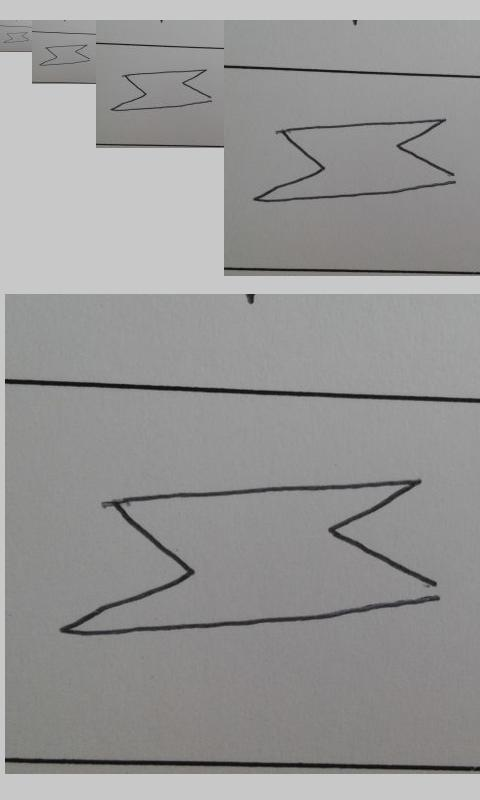edit_text: (56, 475, 442, 639), (253, 118, 458, 203), (110, 69, 213, 112), (39, 44, 90, 66), (3, 32, 30, 44)
